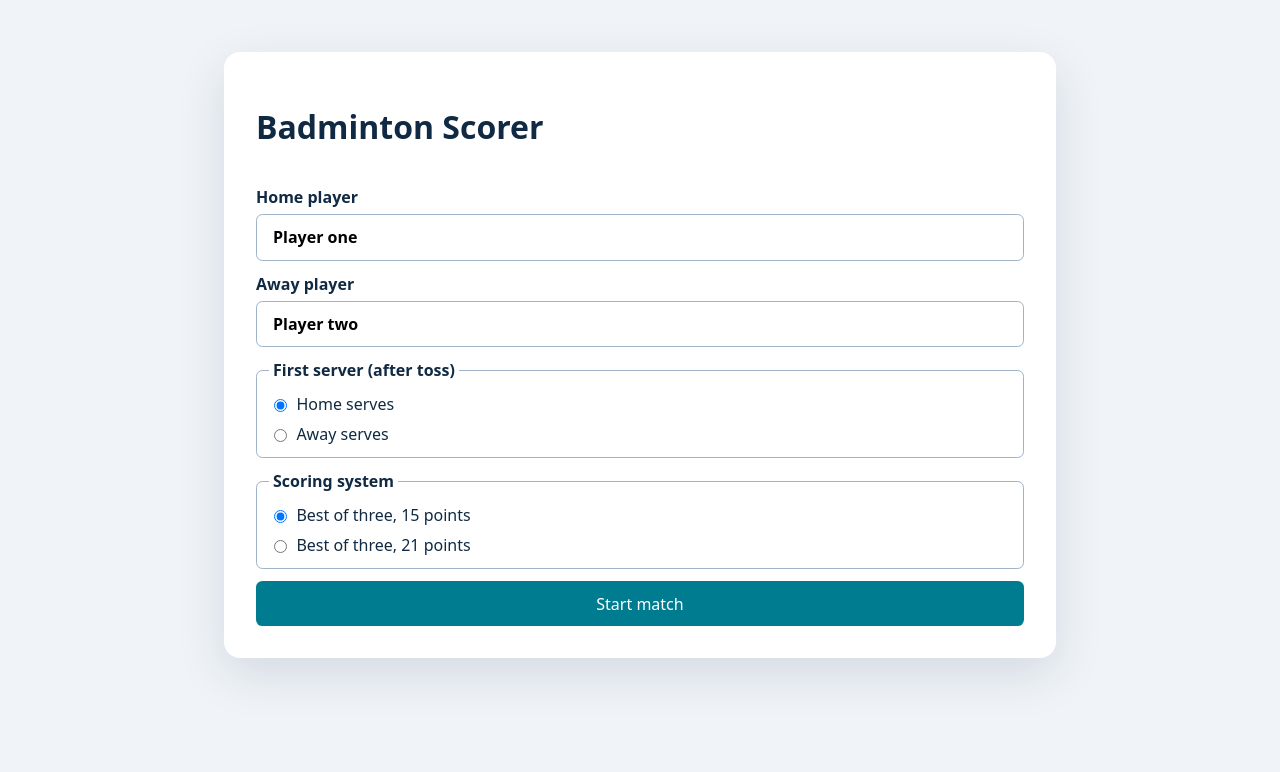
Test: match scoring workflow › returns to match setup after abandonment is confirmed
Step 1. Click the button "Start match" → (640, 604), box [256,581,1024,626]
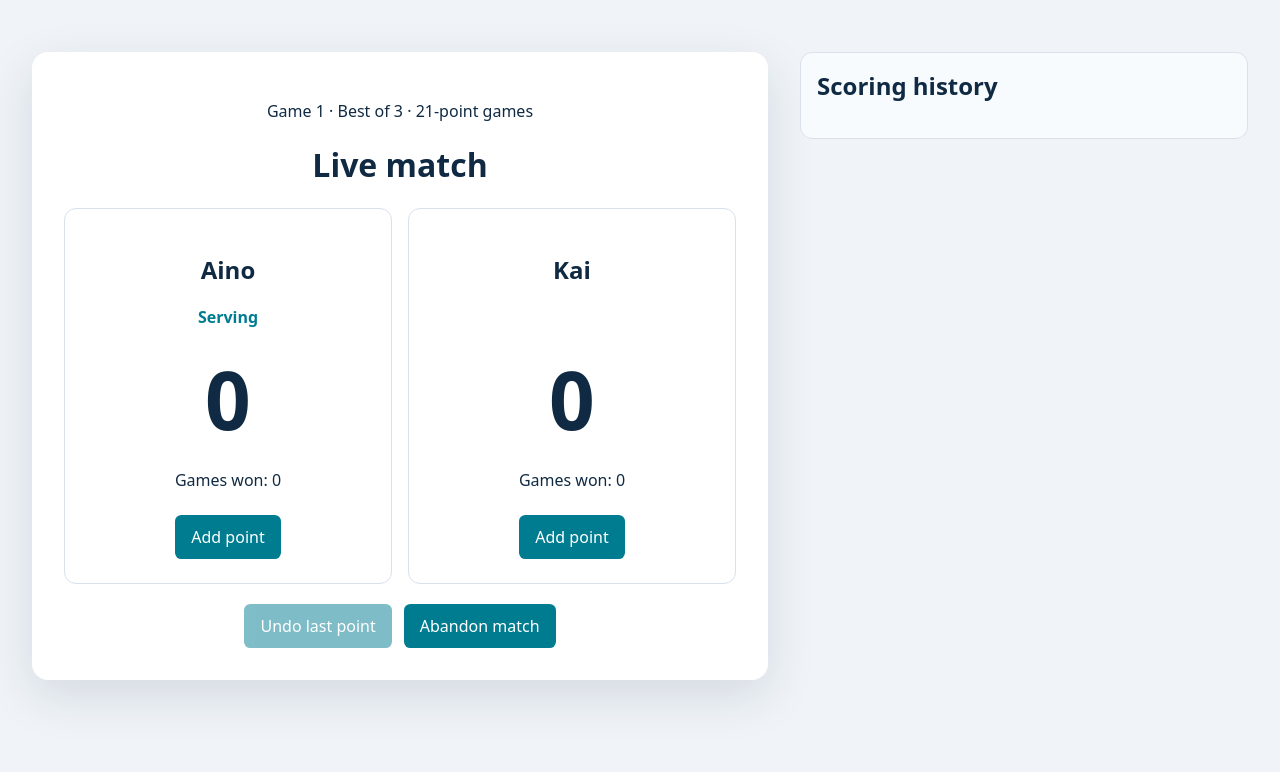
Expected: the heading "Live match" is shown, [312,143,488,186]
Step 2. Click the button "Abandon match" → (480, 626), box [404,604,556,648]
(page scrolled)
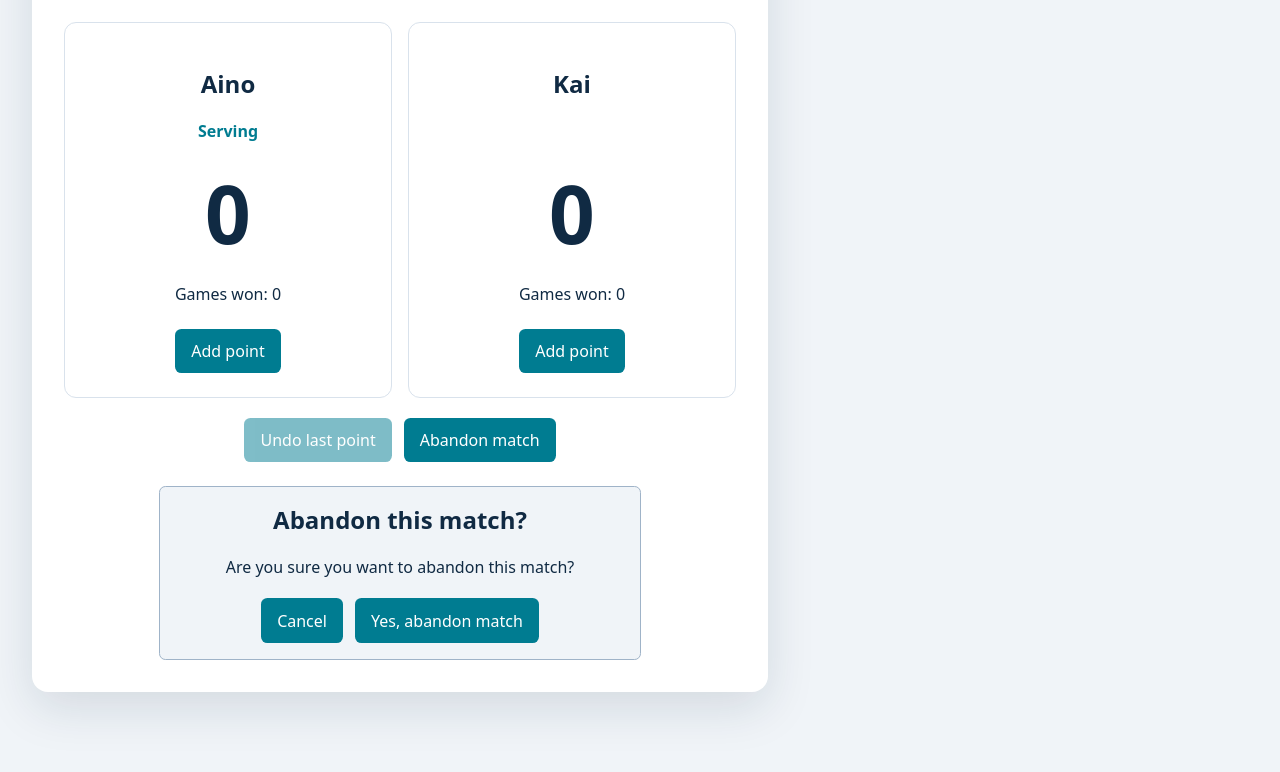
Step 3. Click the button "Yes, abandon match" → (447, 620), box [355,598,539,643]
(page scrolled)
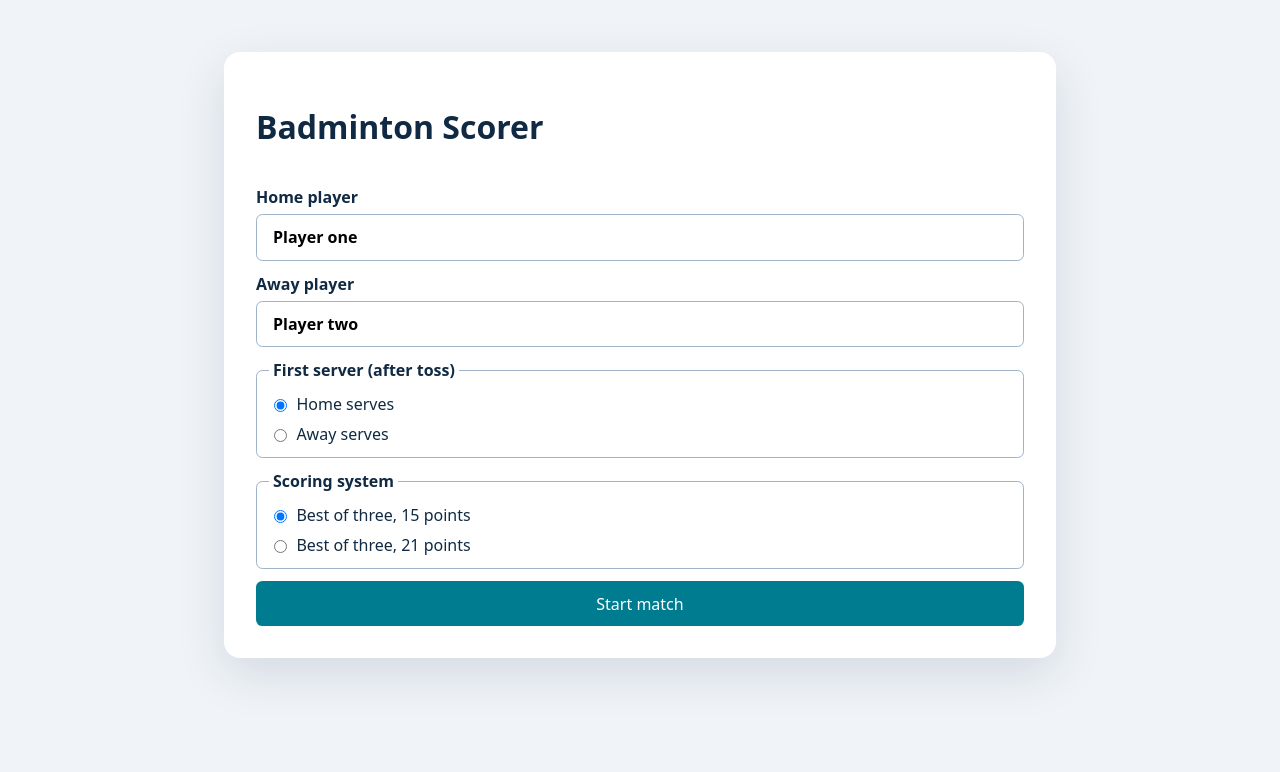
Expected: the heading "Badminton Scorer" is shown, [256,105,544,148]
Expected: the button "Start match" is shown, [256,581,1024,626]
